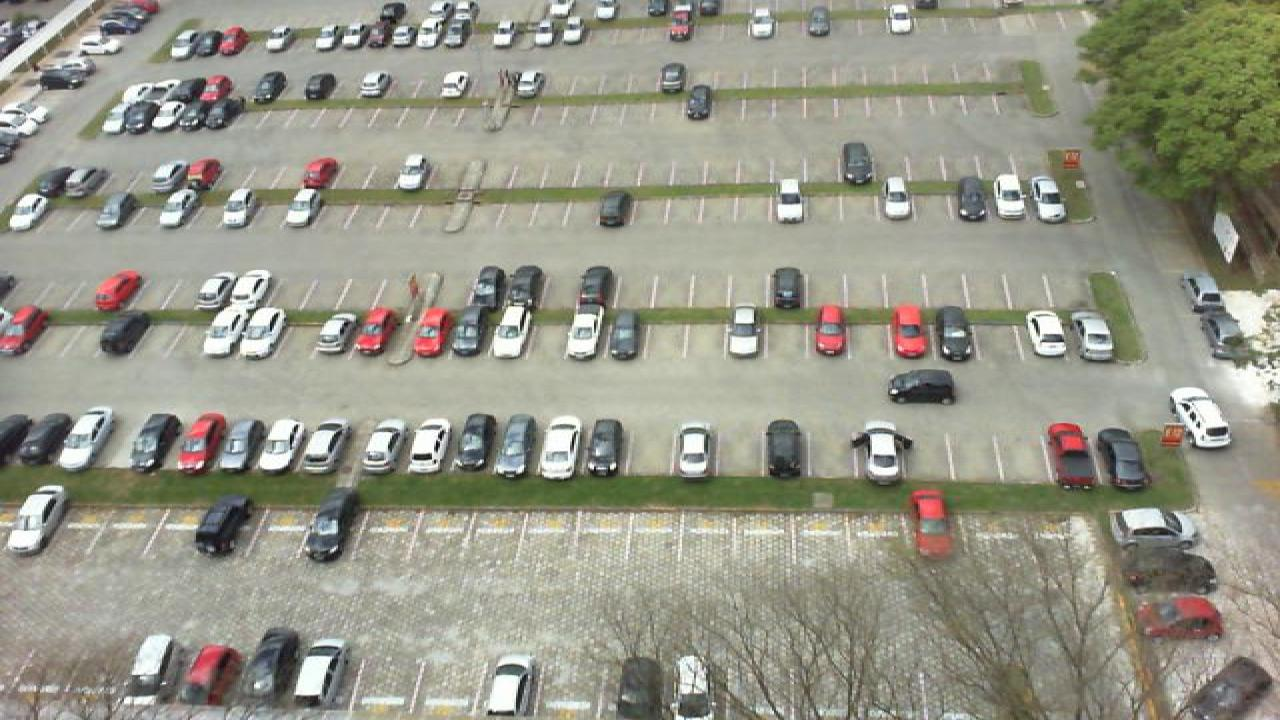Car: (1182, 655, 1280, 720), (238, 627, 300, 704), (4, 485, 68, 556), (478, 652, 542, 720), (1136, 594, 1226, 642), (176, 642, 238, 710), (304, 489, 360, 564), (52, 406, 114, 473), (290, 638, 348, 709), (1170, 386, 1234, 450), (608, 655, 670, 720), (852, 420, 912, 486), (124, 633, 180, 703), (904, 488, 958, 560), (1110, 506, 1200, 546), (126, 412, 184, 474), (1046, 422, 1098, 489), (534, 415, 586, 482), (210, 415, 268, 475), (196, 495, 252, 557), (1098, 428, 1154, 490), (16, 412, 74, 470), (172, 412, 226, 474), (666, 653, 714, 720), (252, 416, 306, 474), (400, 417, 452, 477), (296, 418, 348, 476), (356, 417, 406, 477), (448, 412, 496, 474), (490, 414, 536, 478), (486, 303, 534, 361), (580, 418, 626, 478), (886, 369, 960, 406), (760, 419, 804, 480), (98, 309, 152, 358), (238, 305, 286, 360), (350, 305, 398, 358), (198, 305, 244, 360), (934, 303, 976, 362), (886, 303, 930, 359), (1070, 308, 1116, 361), (0, 305, 46, 358), (674, 422, 716, 479), (560, 305, 602, 361), (1024, 308, 1070, 359), (404, 306, 448, 359), (1180, 271, 1230, 317), (448, 307, 492, 359), (600, 307, 642, 361), (90, 271, 142, 313), (722, 305, 762, 359), (812, 302, 850, 358), (310, 310, 356, 356), (464, 264, 506, 312), (1028, 176, 1070, 222), (4, 191, 50, 233), (574, 264, 614, 310), (770, 176, 808, 224), (506, 264, 546, 308), (876, 176, 916, 220), (992, 172, 1028, 219), (196, 270, 238, 310), (770, 266, 806, 312), (954, 176, 990, 222), (840, 142, 876, 186), (34, 163, 78, 199), (232, 270, 272, 309), (298, 156, 338, 194), (156, 191, 194, 231), (280, 190, 316, 231), (66, 164, 108, 199), (172, 98, 214, 133), (92, 192, 130, 230), (182, 156, 222, 192), (220, 189, 254, 231), (0, 413, 32, 457), (596, 190, 632, 228), (394, 154, 430, 192), (152, 158, 190, 192), (120, 101, 158, 135), (206, 98, 246, 129), (146, 98, 184, 130), (166, 26, 204, 58), (250, 70, 286, 103), (682, 84, 714, 121), (884, 2, 918, 35), (198, 74, 234, 105), (510, 70, 548, 99), (656, 62, 688, 96), (100, 104, 132, 138), (358, 70, 394, 100), (436, 69, 470, 99), (302, 71, 336, 101), (746, 8, 778, 39), (976, 0, 1008, 30), (664, 11, 694, 42), (192, 26, 222, 56), (526, 17, 558, 45), (804, 5, 832, 37), (490, 19, 522, 46), (414, 22, 444, 50), (446, 18, 474, 48), (216, 28, 246, 55), (260, 27, 290, 53), (560, 15, 586, 44), (306, 26, 334, 52), (366, 24, 394, 50), (390, 24, 416, 50), (346, 25, 372, 50)
